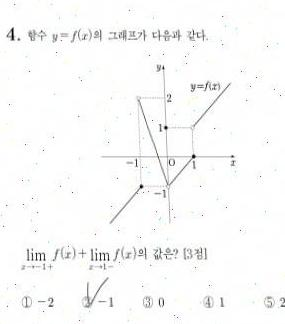choice: (79, 289, 95, 310)
not-choice: (18, 294, 33, 309), (200, 294, 215, 309), (140, 294, 154, 309), (262, 295, 275, 309)
